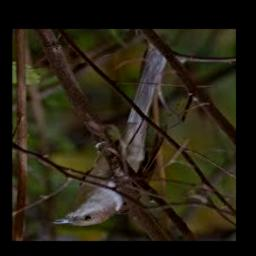Cuckoo: (55, 51, 170, 226)
